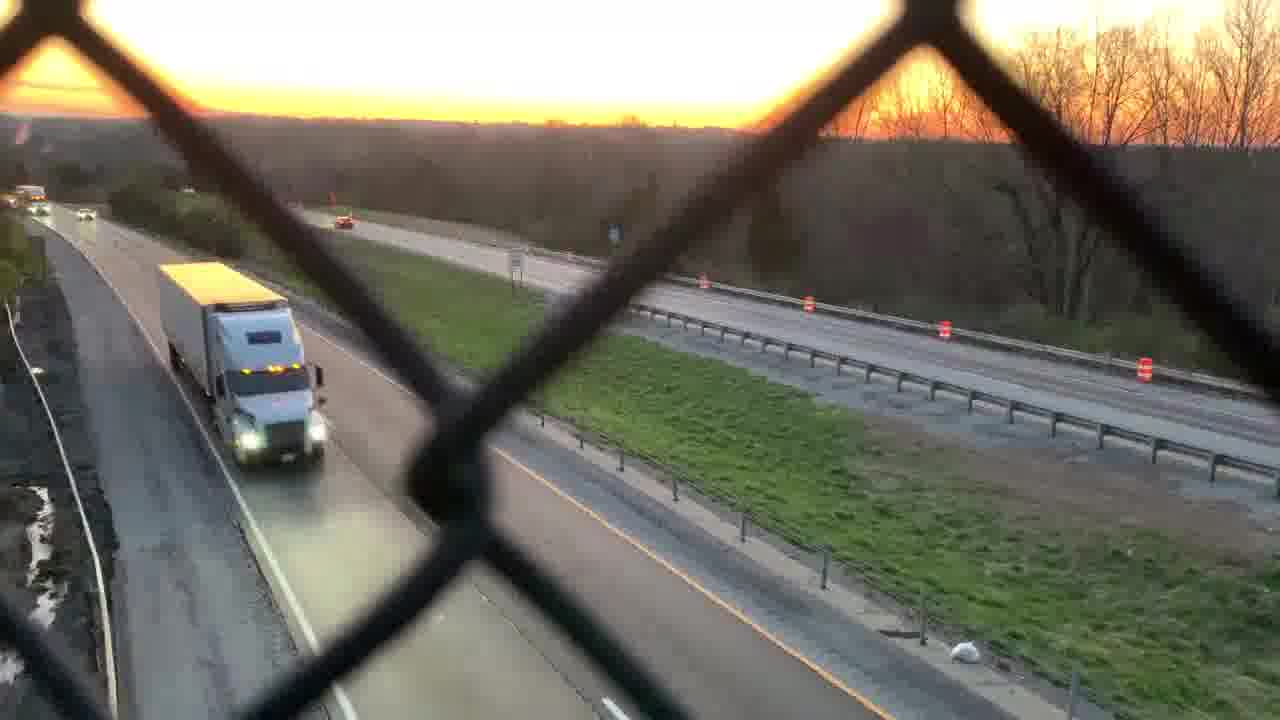heavyTruck: (160, 256, 335, 484), (10, 180, 50, 218)
vehicle: (70, 207, 101, 223), (328, 211, 354, 230)
